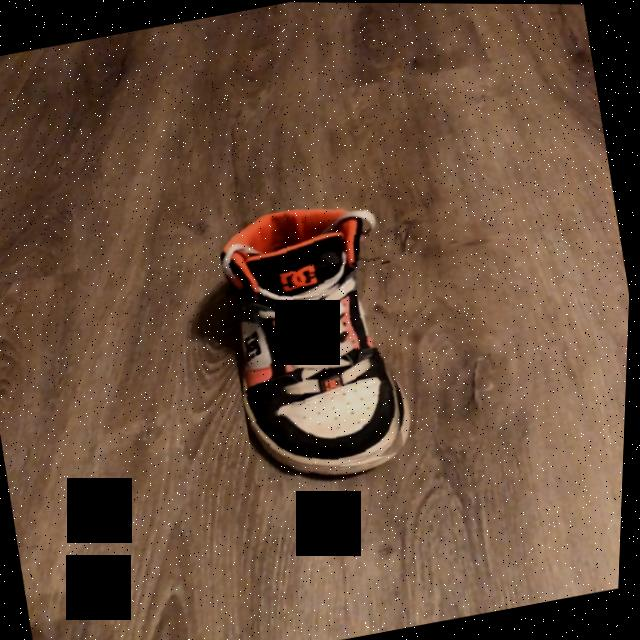shoe: (223, 209, 404, 472)
